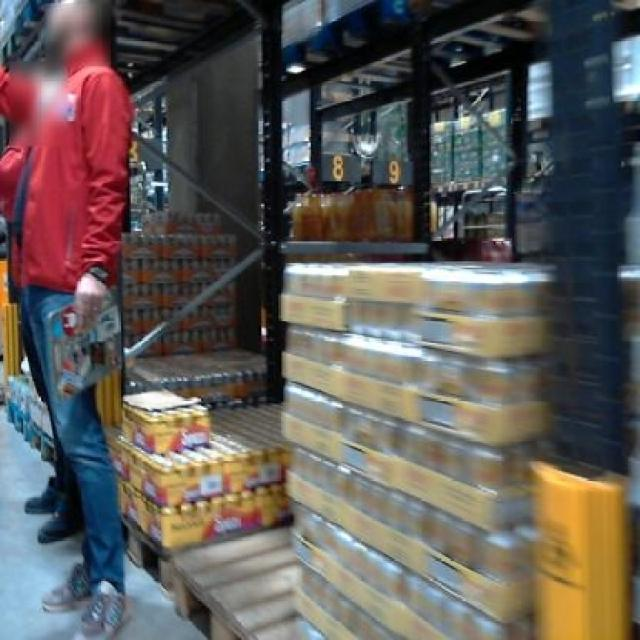pallets: (278, 262, 548, 637)
